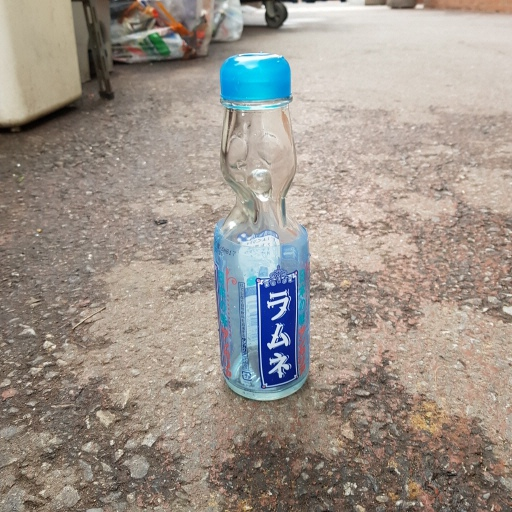Glass_4: (208, 53, 313, 404)
